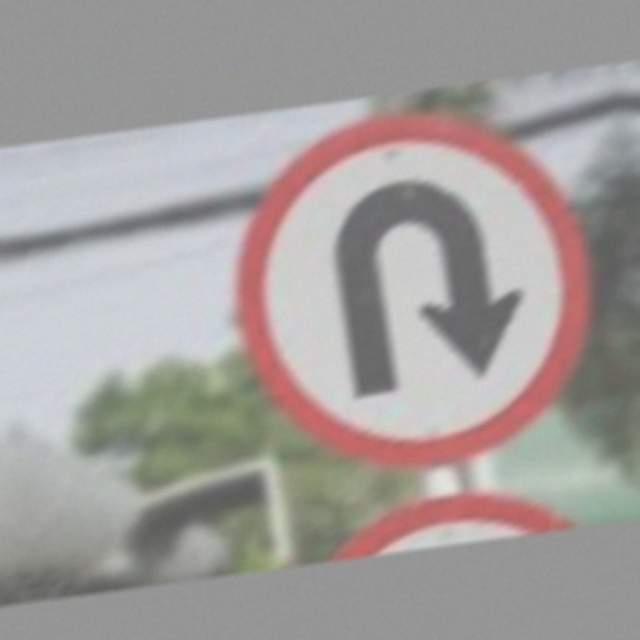U_Turn_Ahead: (220, 104, 607, 467)
